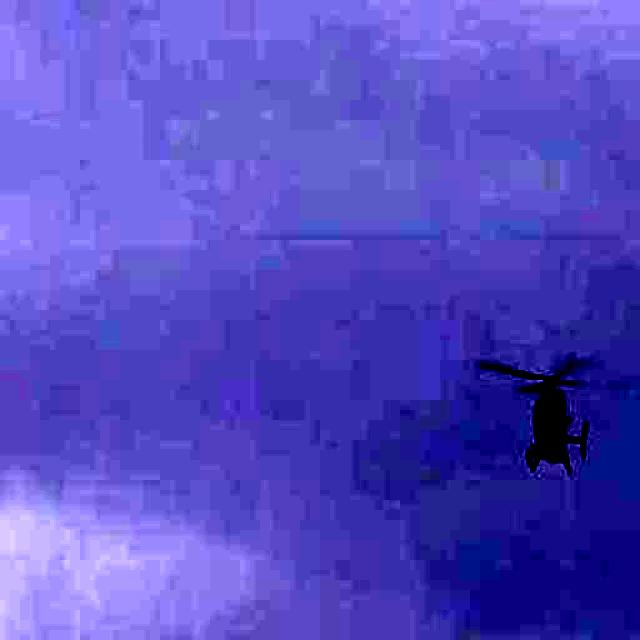drone: (458, 325, 639, 501)
